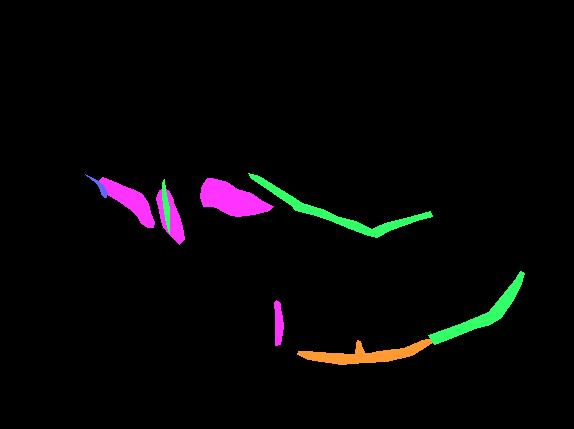Broken part: (248, 173, 432, 237), (428, 271, 524, 344), (162, 179, 169, 233)
Dent: (200, 178, 273, 216), (99, 177, 154, 227), (156, 188, 184, 244), (274, 300, 283, 345)
Paint chip: (297, 338, 434, 364)
Scratch: (85, 174, 107, 197)
